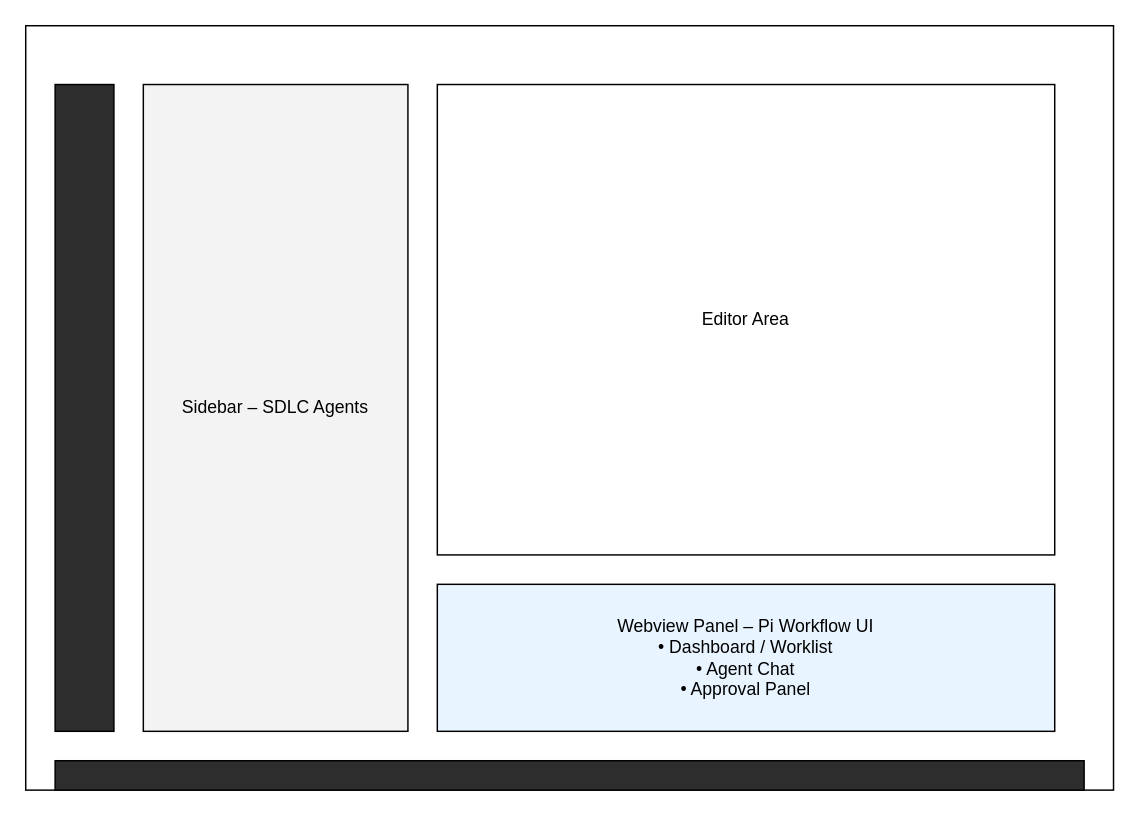
Image size: 1139x816. Some labels were removed from this diagram. The centre of each missing label's shape, as x and y in pixels:
"Activity Bar" belongs at (x=84, y=407).
"Status Bar – Pi Workflow Status" belongs at (x=569, y=774).
